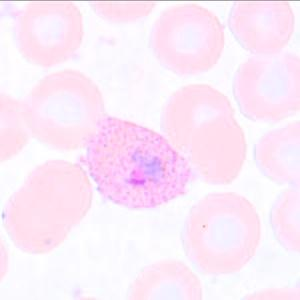Infected: (84, 116, 191, 205)
Uninfected: (4, 158, 94, 249), (183, 193, 258, 275), (27, 70, 101, 147), (148, 4, 222, 76), (161, 85, 230, 152), (233, 53, 300, 118), (15, 1, 82, 66), (192, 113, 245, 188), (227, 1, 292, 52)
